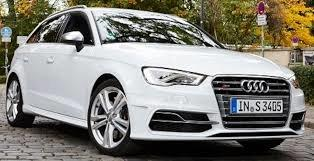license-plates: (232, 100, 284, 114)
